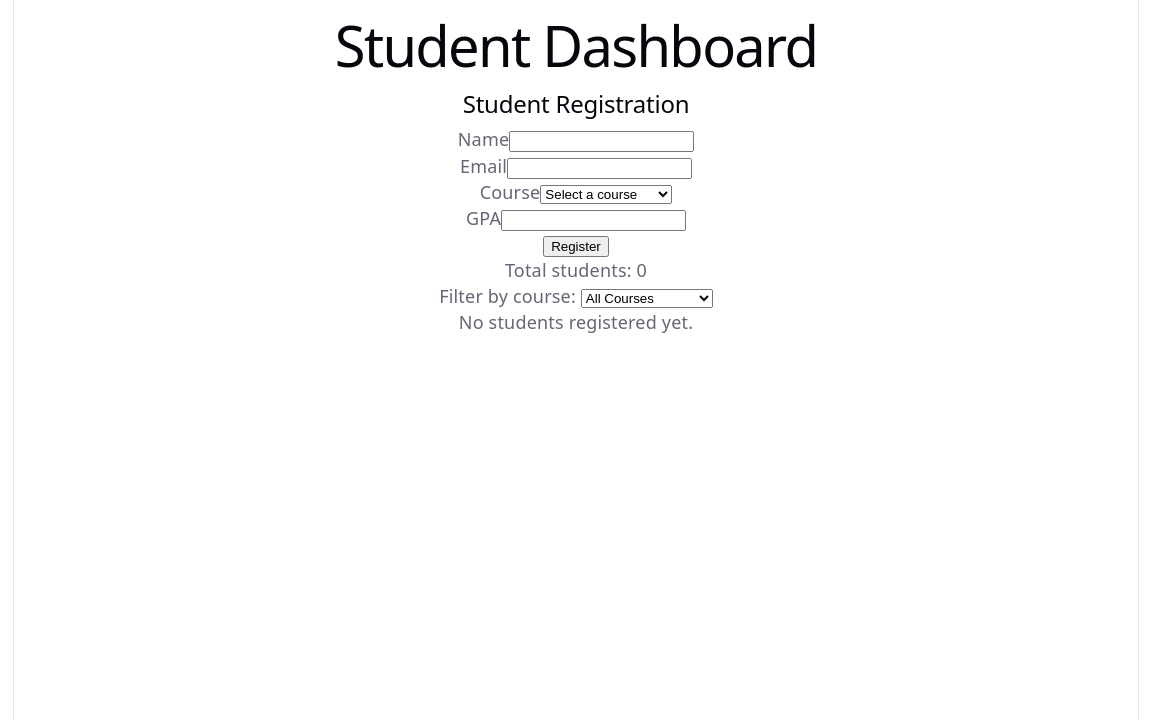
Scenario: rejects an invalid student submission
Click the button "Register" at [576, 246], box [543,236,609,257]
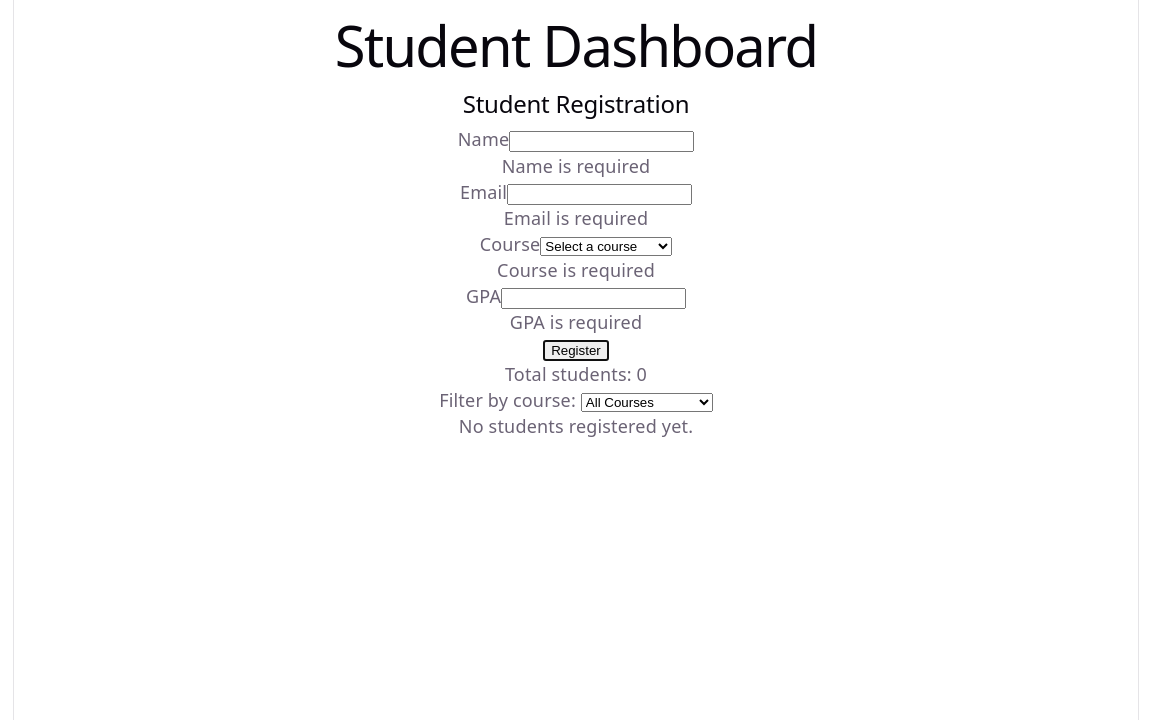
Expected: the text "Name is required" is shown, [502,154,650,178]
Expected: the text "Email is required" is shown, [504,206,648,230]
Expected: the text "Course is required" is shown, [497,258,655,282]
